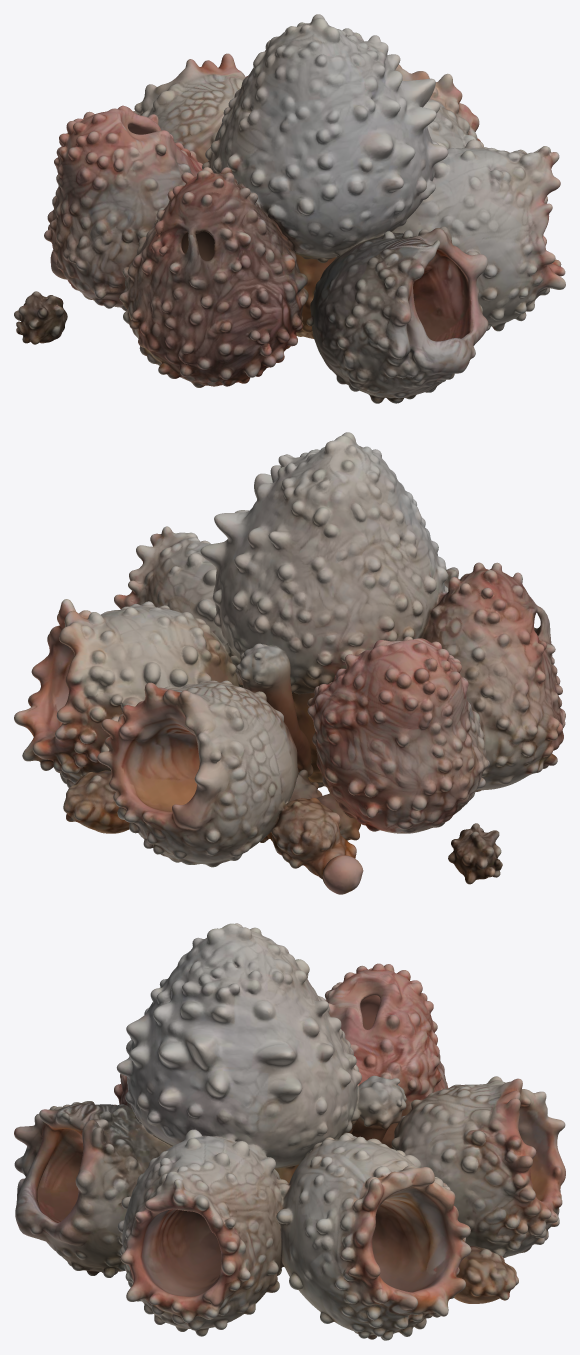
File: barnacle_giant.glb
3 renders of one model, top to bottom at view 1: azimuth 30°, elevation 25°; view 2: azimuth 150°, elevation 25°; view 3: azimuth 270°, elevation 25°, orthographic. The views are drawn at different scales.
Parts seen in each view (by area): view 1: tripo_node_fce086a7-5dcf-4f27-b792-1767b5ebf1e0; view 2: tripo_node_fce086a7-5dcf-4f27-b792-1767b5ebf1e0; view 3: tripo_node_fce086a7-5dcf-4f27-b792-1767b5ebf1e0.
Boxes of the visible parts, bbox=[...] form: tripo_node_fce086a7-5dcf-4f27-b792-1767b5ebf1e0: bbox=[14, 14, 565, 403]; tripo_node_fce086a7-5dcf-4f27-b792-1767b5ebf1e0: bbox=[14, 432, 565, 894]; tripo_node_fce086a7-5dcf-4f27-b792-1767b5ebf1e0: bbox=[14, 923, 565, 1340].
Bounding box in the file's own units: 0.9732 × 0.678 × 1.
1 material, 1 textured.
